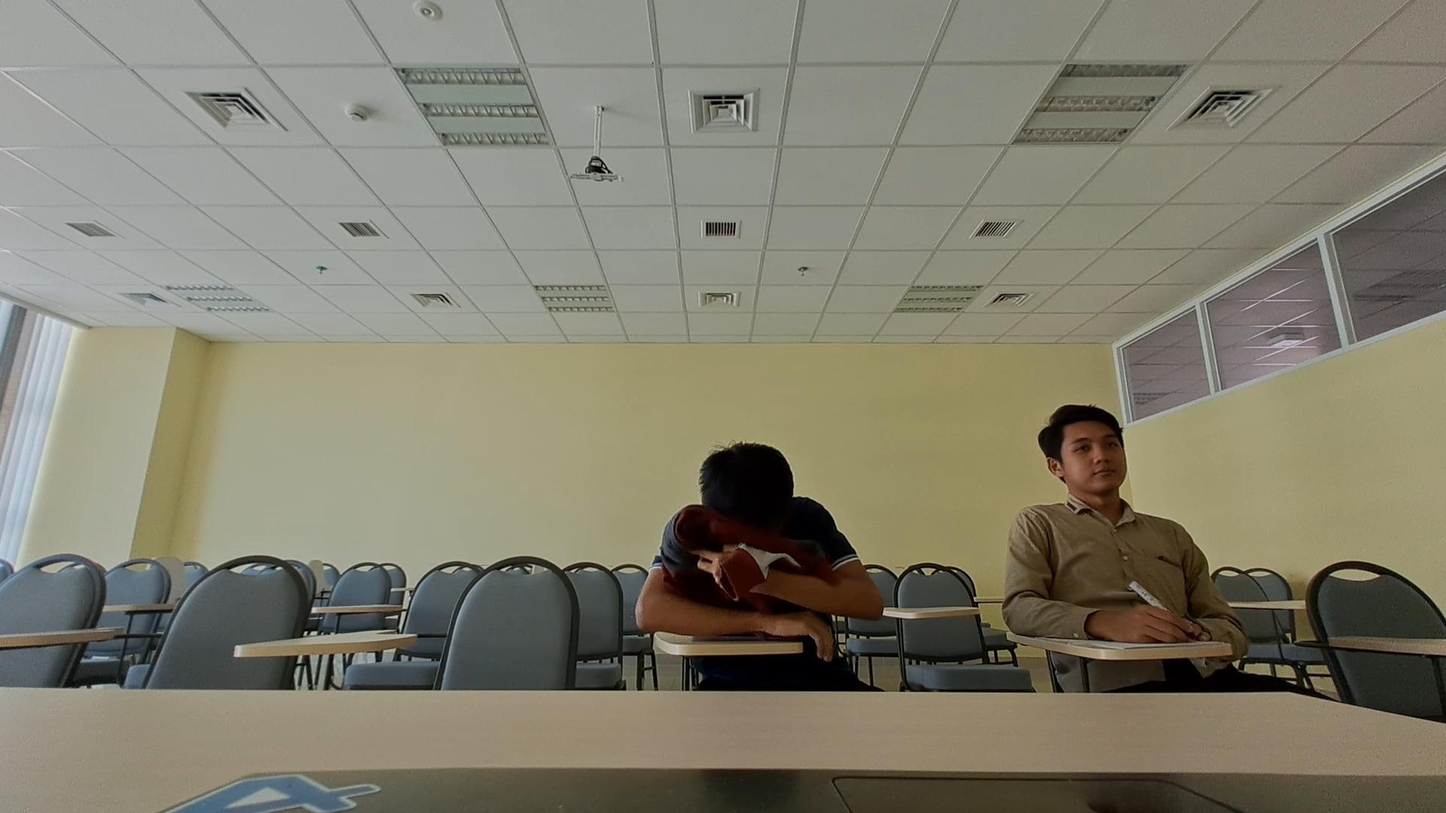sleep: (592, 432, 881, 626)
study: (993, 403, 1240, 642)
